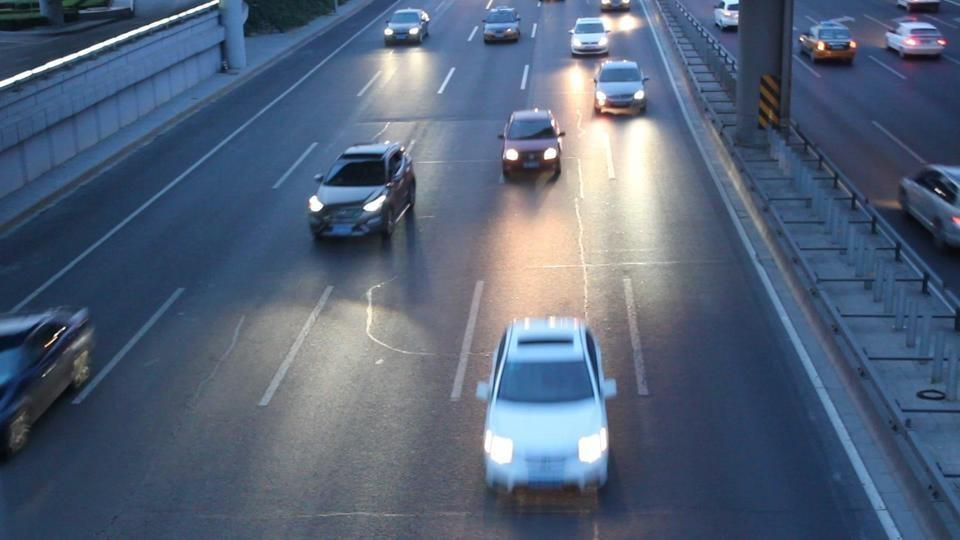car: (479, 315, 617, 497), (1, 304, 96, 461), (306, 142, 417, 242), (897, 164, 960, 254), (498, 107, 564, 181), (593, 59, 648, 115), (798, 19, 858, 65), (885, 18, 948, 59), (382, 8, 431, 45), (569, 17, 612, 57), (482, 8, 522, 44), (713, 1, 740, 31), (896, 0, 942, 15), (598, 0, 631, 12)
